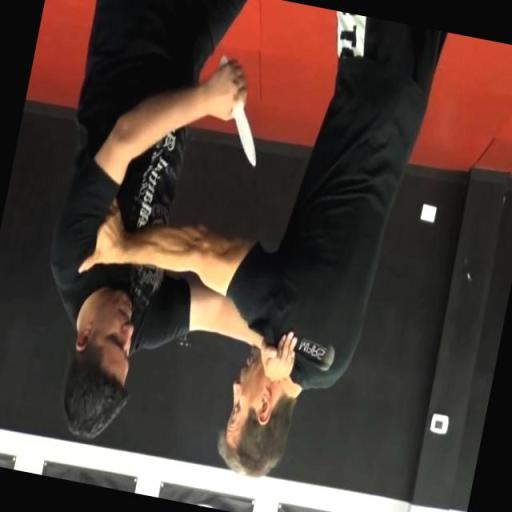knife: (198, 52, 277, 172)
